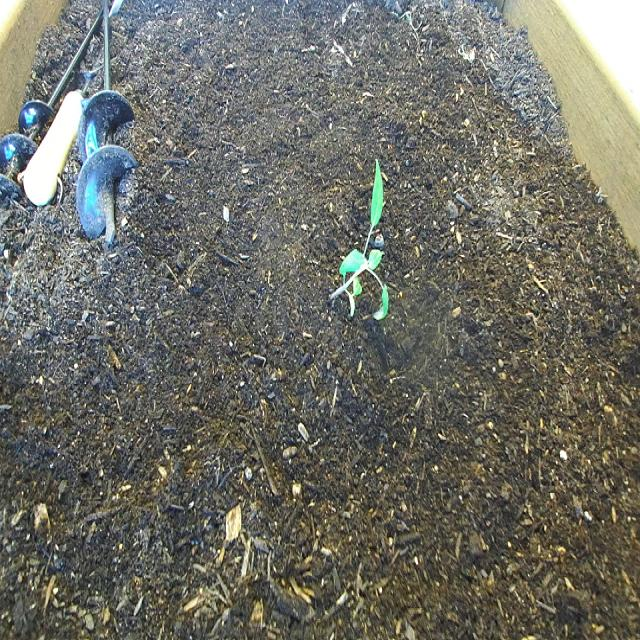Healthy: (325, 153, 397, 338)
